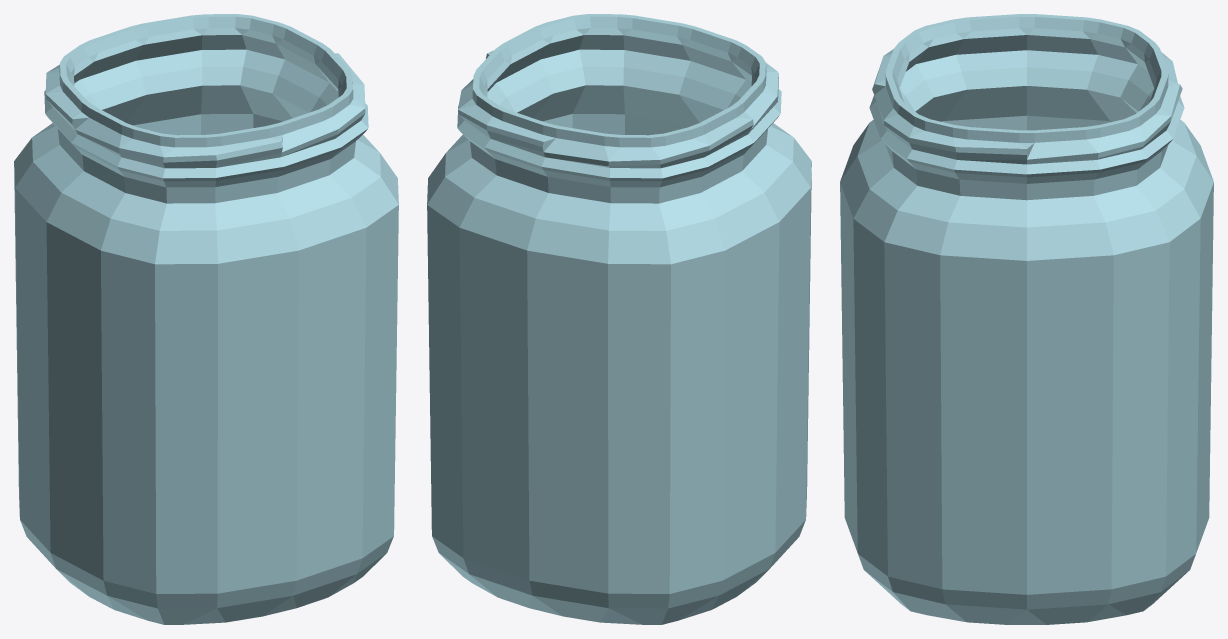
The model's file is bocal2.fbx.
3 views of the same model, side by side, from view 1: azimuth 30°, elevation 25°; view 2: azimuth 150°, elevation 25°; view 3: azimuth 270°, elevation 25° (orthographic).
Parts seen in each view (by area): view 1: bocal; view 2: bocal; view 3: bocal.
Boxes of the visible parts, x1,y1,x2,y2 form: bocal: [14, 14, 398, 624]; bocal: [427, 14, 811, 624]; bocal: [840, 14, 1213, 624].
Size of the model in its own units: 356 by 514 by 356.
